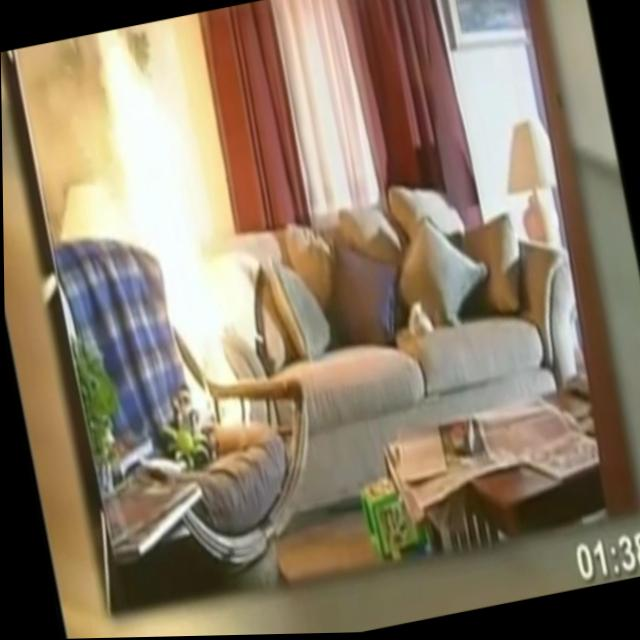fire: (84, 17, 244, 417)
